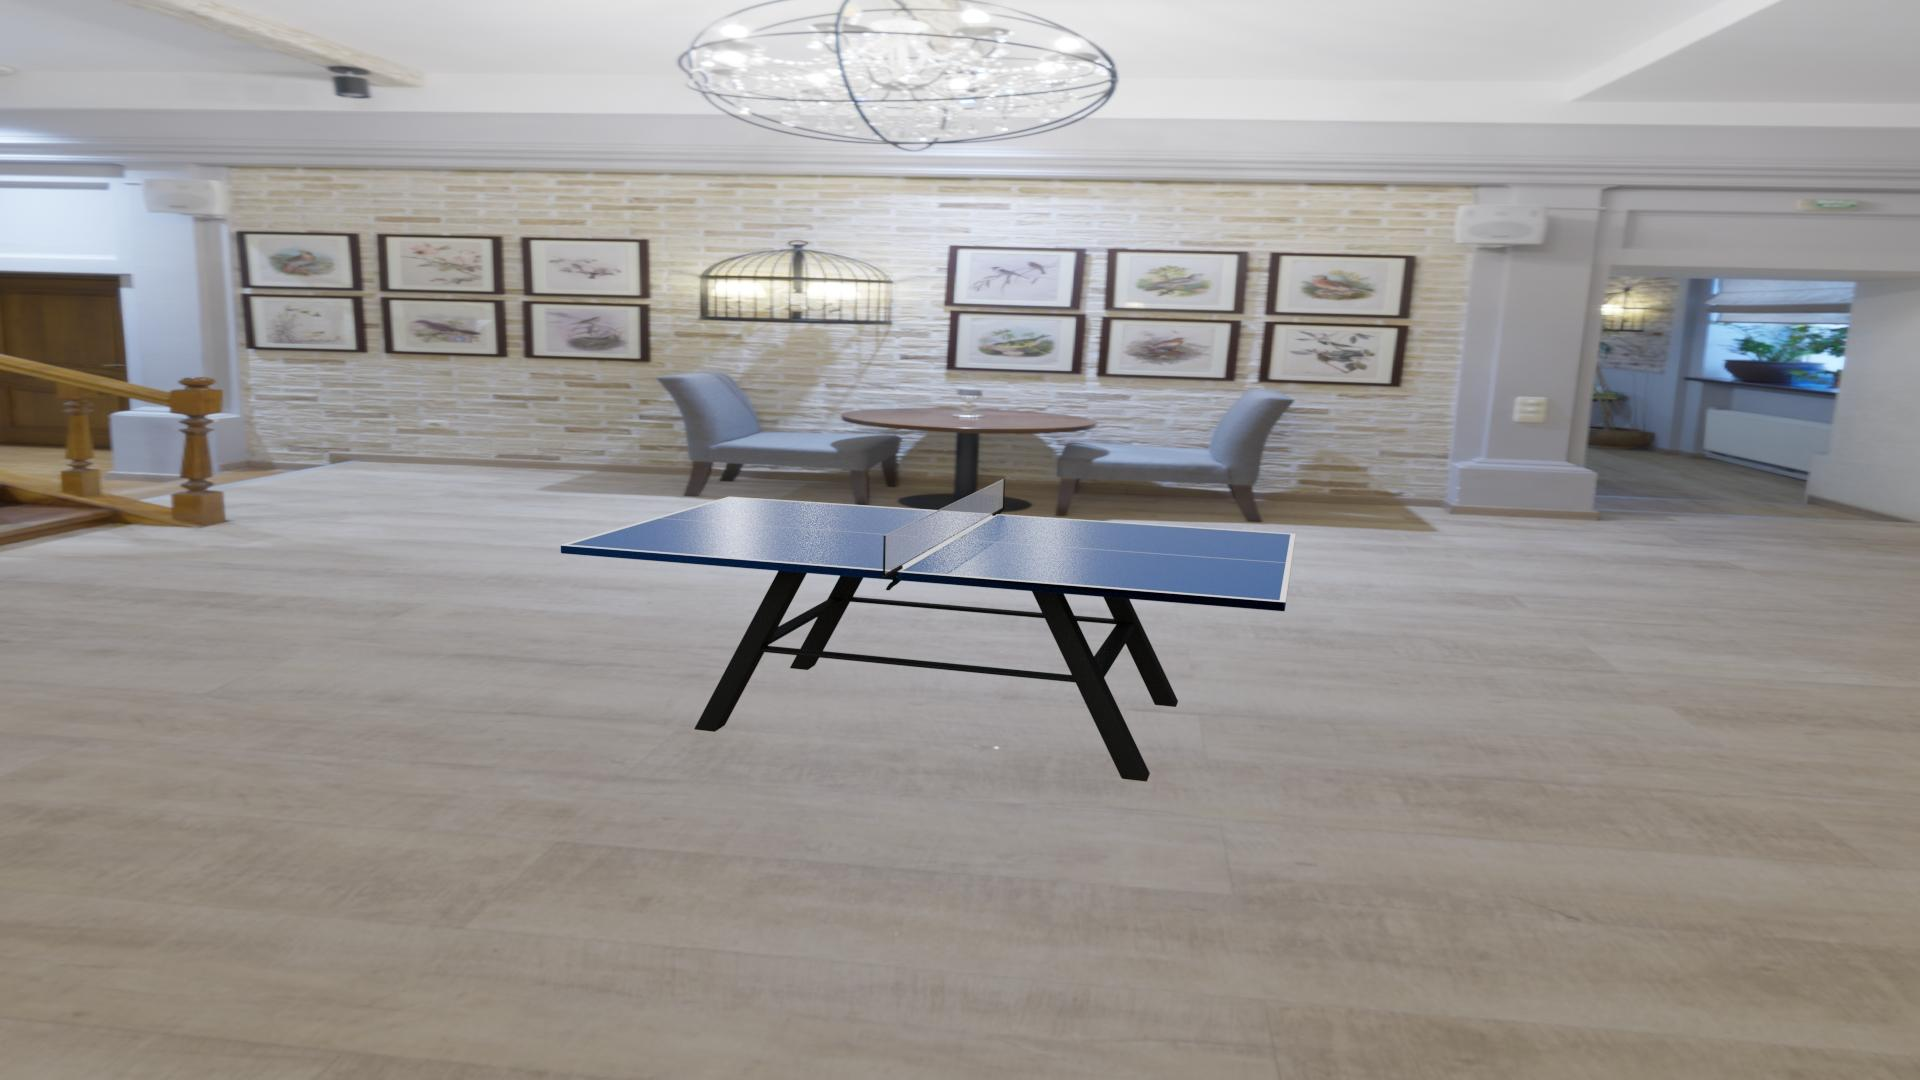table: (567, 497, 1291, 600)
